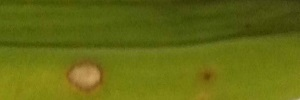RiceBlast: (59, 57, 110, 95)
